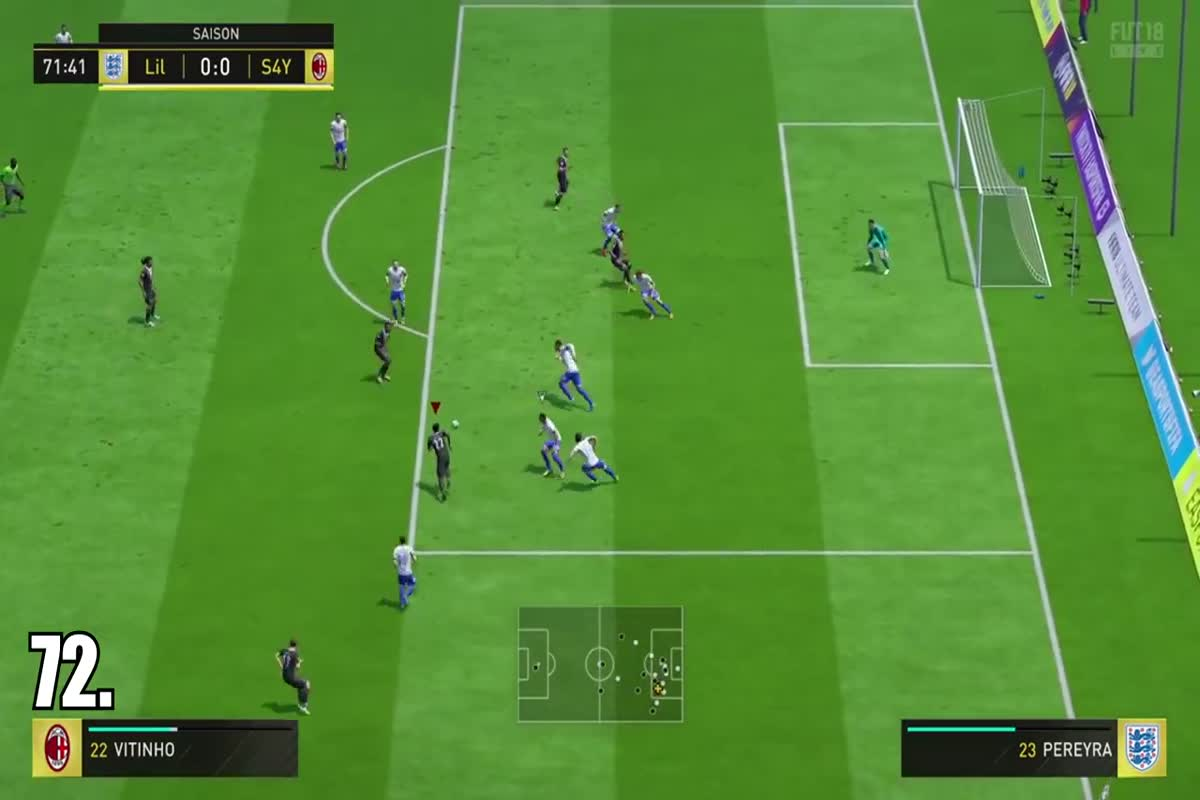ball: (448, 410, 466, 432)
